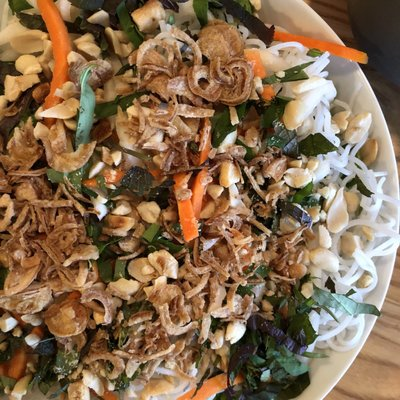pizza: (272, 24, 368, 65), (37, 0, 72, 97), (190, 372, 229, 400)
